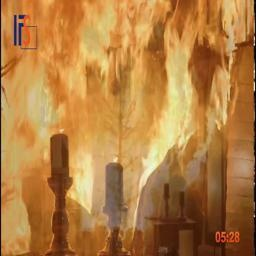fire: (2, 0, 251, 219)
